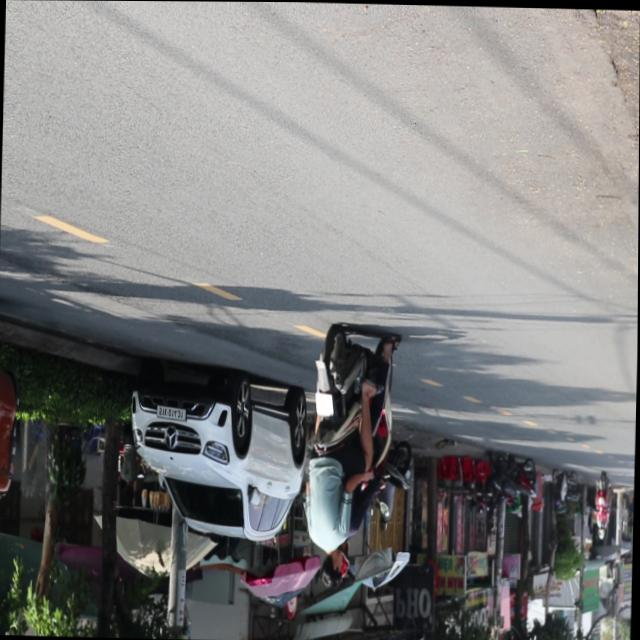helmet: (333, 537, 352, 585)
licenseplate: (302, 323, 400, 595)
motorcyclist: (318, 545, 346, 592)
nohelmet: (315, 393, 333, 415)
